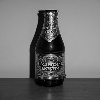beer: (34, 8, 70, 94)
